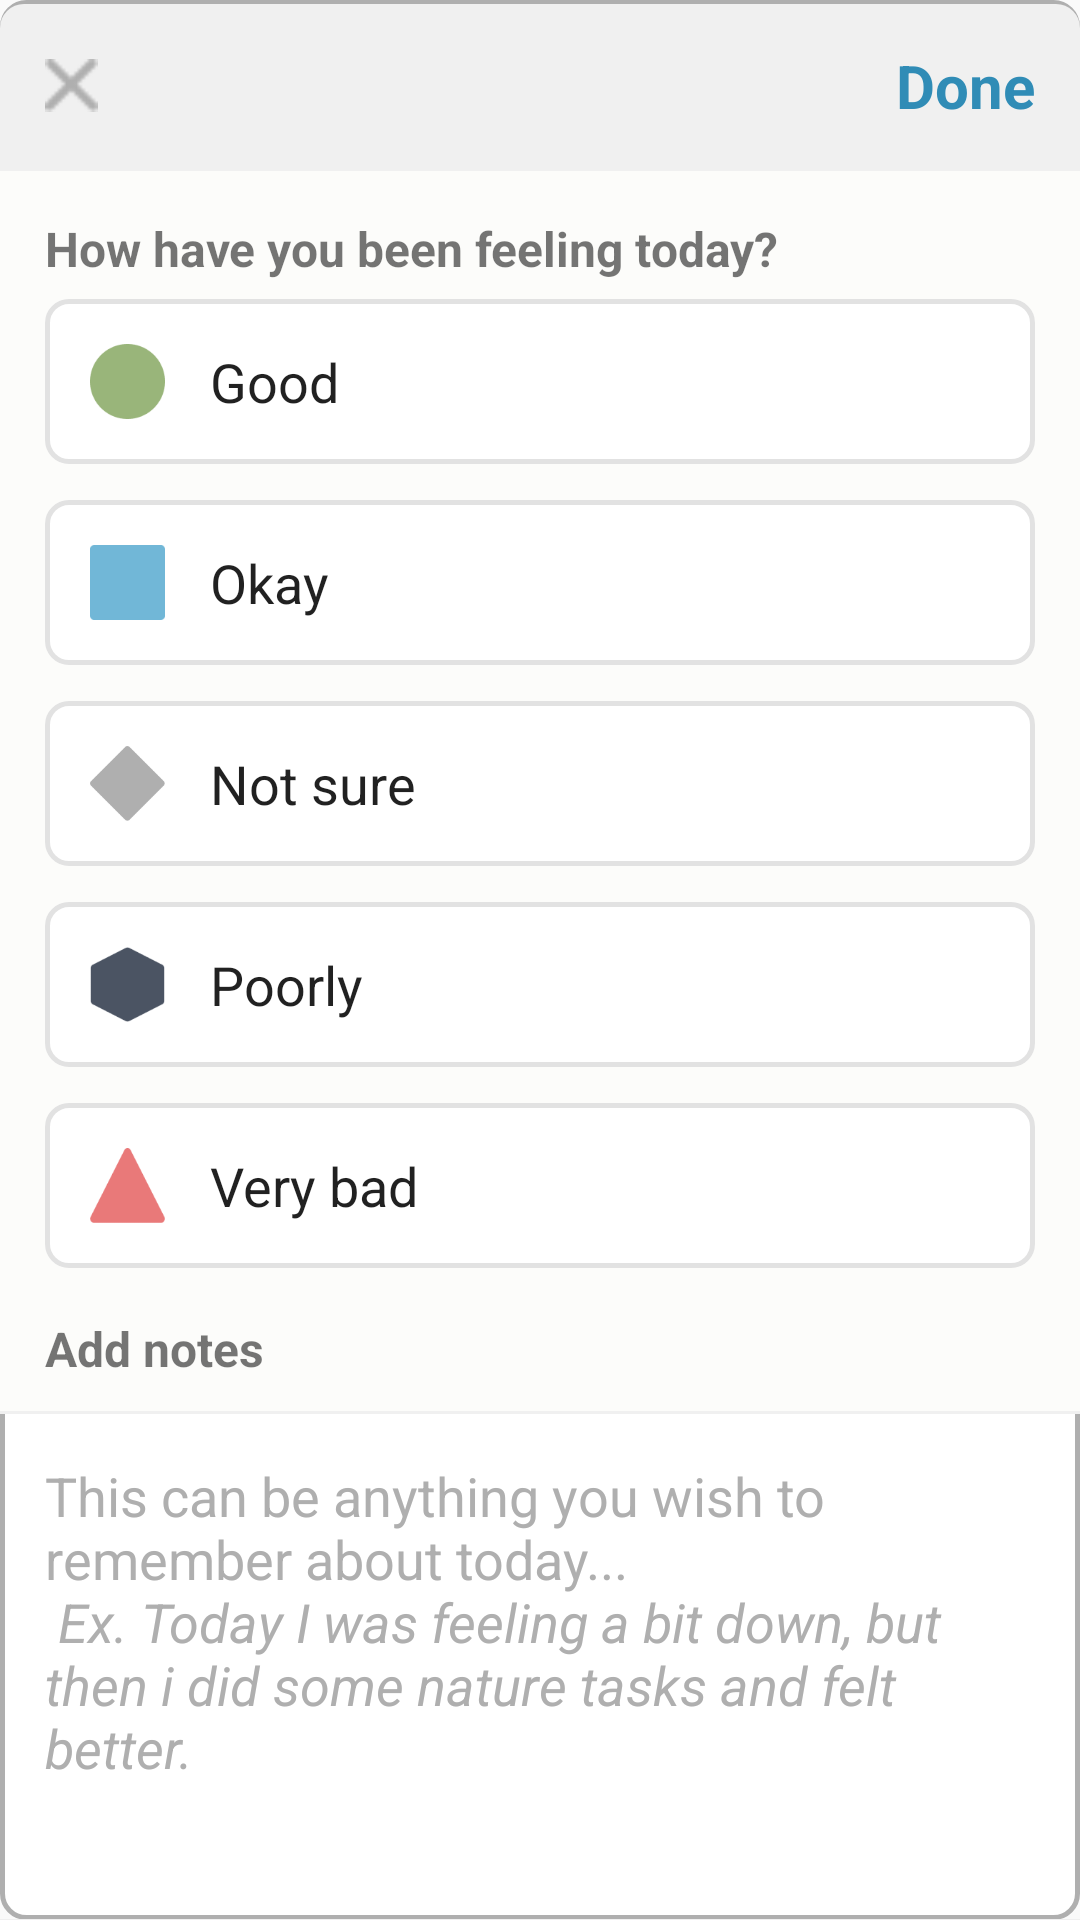

Icon click points for this 1080×1920 phone screenshot, format (x=x, y=y):
close: (x=71, y=85)
